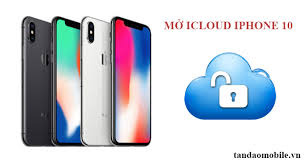iphone: (110, 13, 155, 148), (80, 16, 111, 147)
iphone10: (108, 14, 155, 147), (79, 16, 110, 147), (21, 14, 52, 145), (50, 14, 81, 145)
